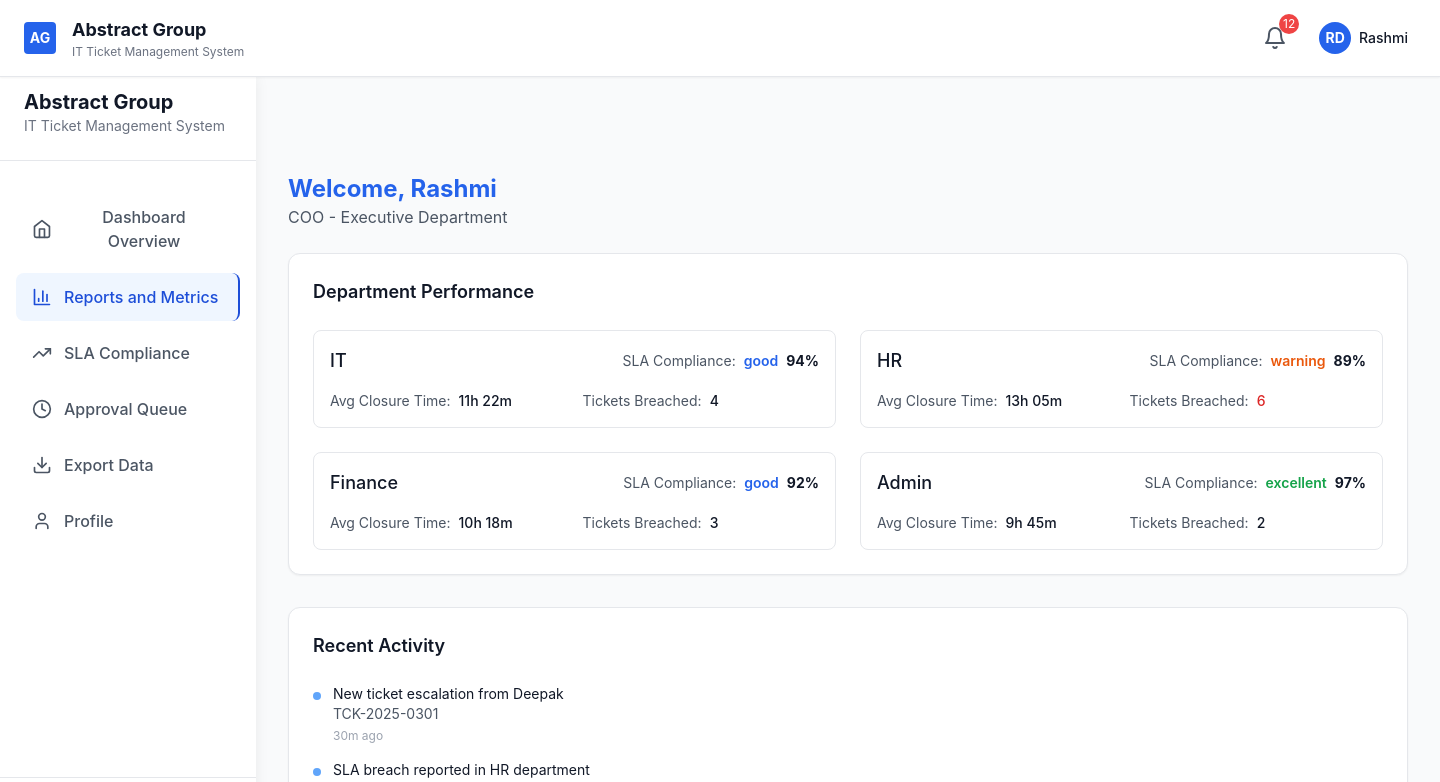
Test: COODashboard - unit tests › filters ticket table by Department select
This screenshot has width=1440, height=782.
# Ensure dashboard view is active
Click the button "Dashboard Overview" at (128, 229), box [16, 193, 240, 265]
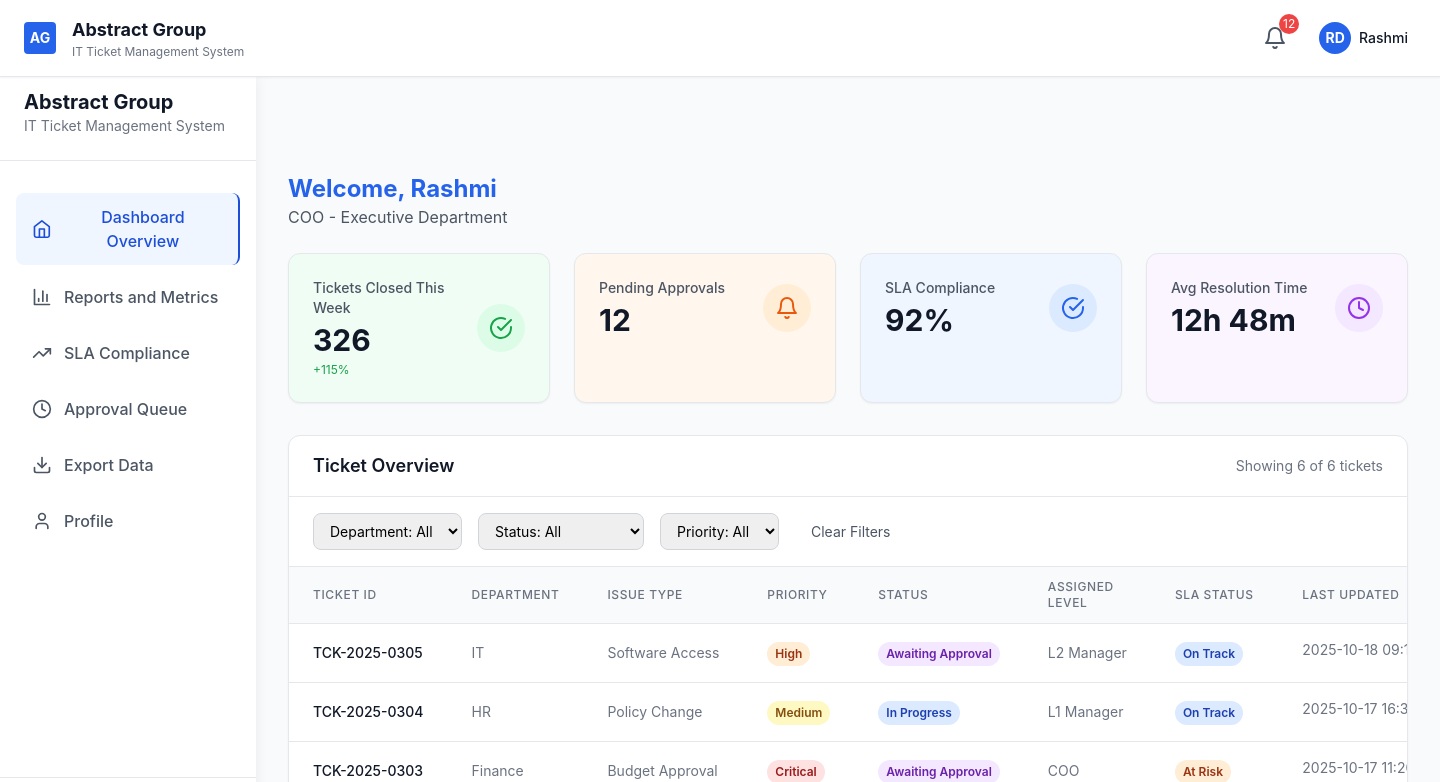
Expected: the text "TCK-2025-0304" is shown, [289, 682, 448, 742]
# Change Department select to IT
Select "IT" in the 1st dropdown showing "Department: All" at (388, 532), box [313, 513, 462, 550]
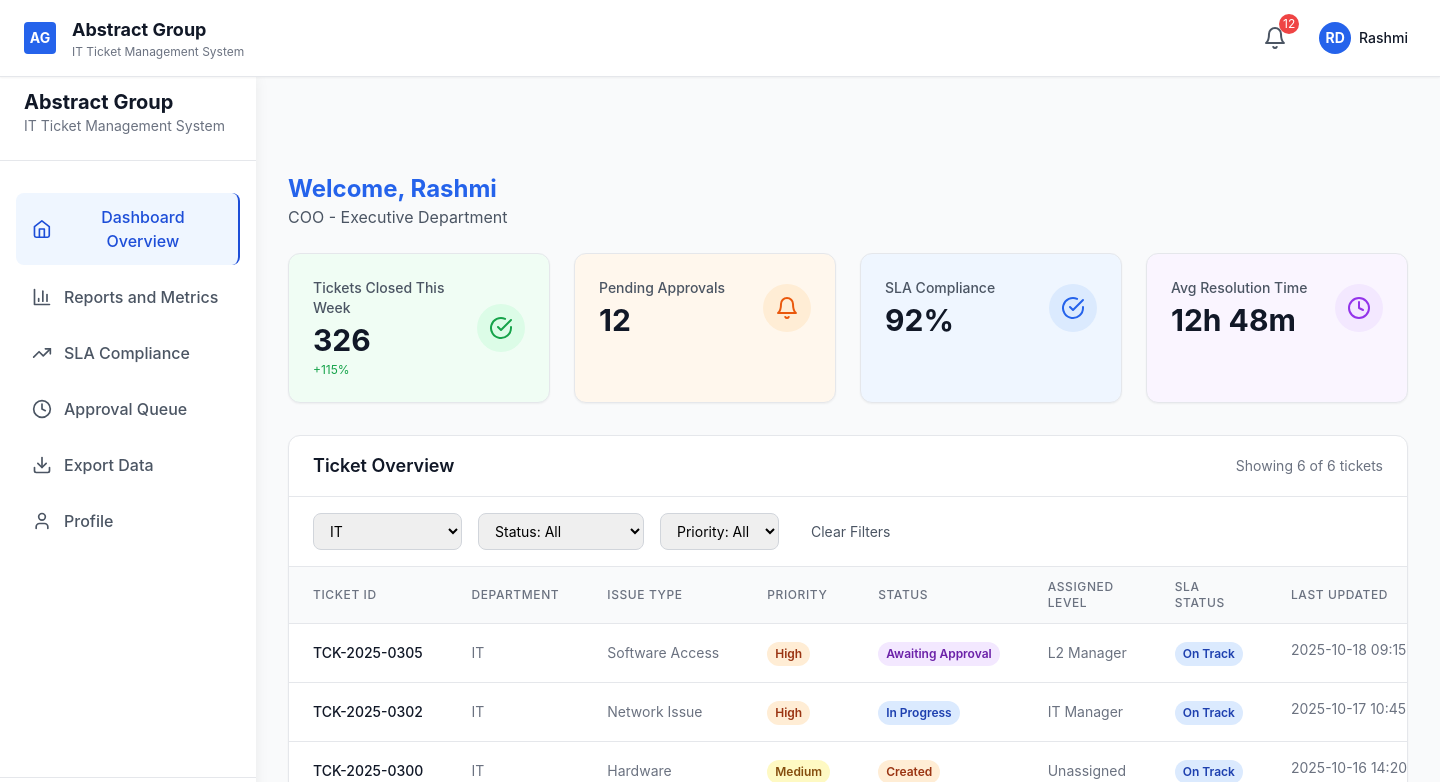
Now the text "TCK-2025-0304" is gone
